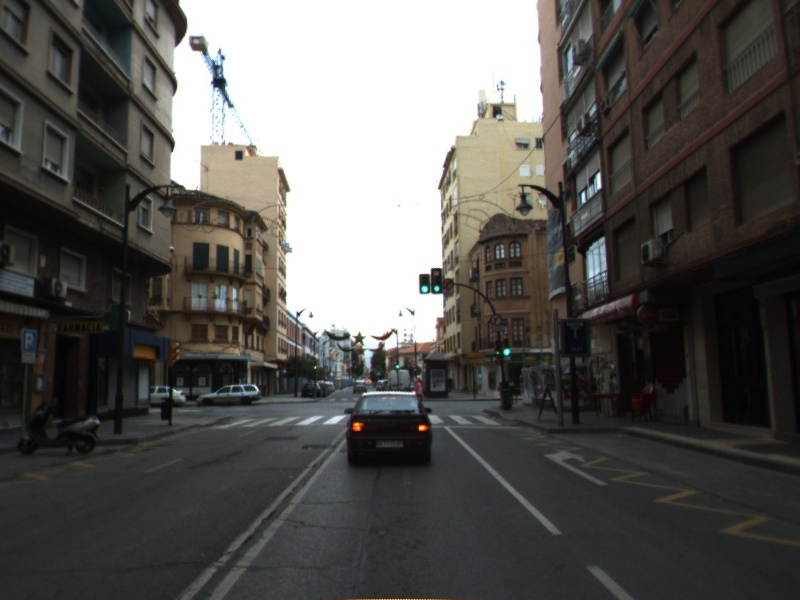RIGHT: (542, 447, 611, 487)
